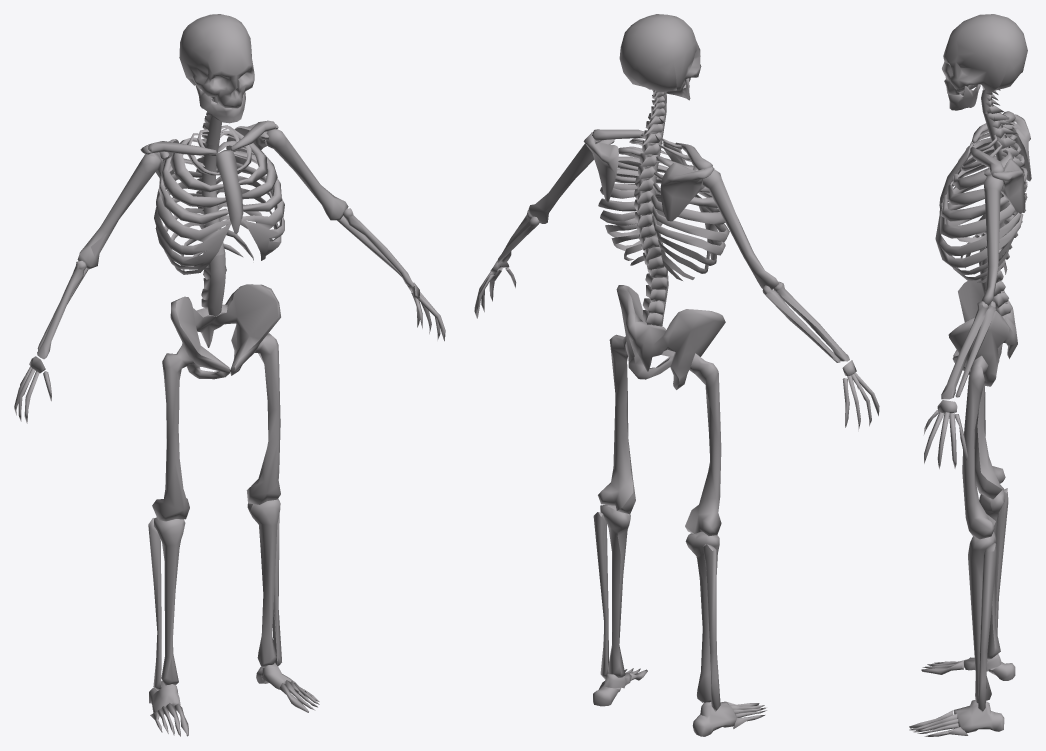
Rendered from skeleton.fbx.
3 views of the same model, side by side, from view 1: azimuth 30°, elevation 25°; view 2: azimuth 150°, elevation 25°; view 3: azimuth 270°, elevation 25° (orthographic). The views are drawn at different scales.
Visible parts, largest first — view 1: node_id80; view 2: node_id80; view 3: node_id80.
Part boxes in pixels (x1,y1,x2,y2): node_id80: (14, 14, 445, 736); node_id80: (474, 14, 879, 736); node_id80: (909, 14, 1031, 736).
Bounding box in the file's own units: 632 × 1024 × 167.
Materials: 1 (1 with a texture image).
